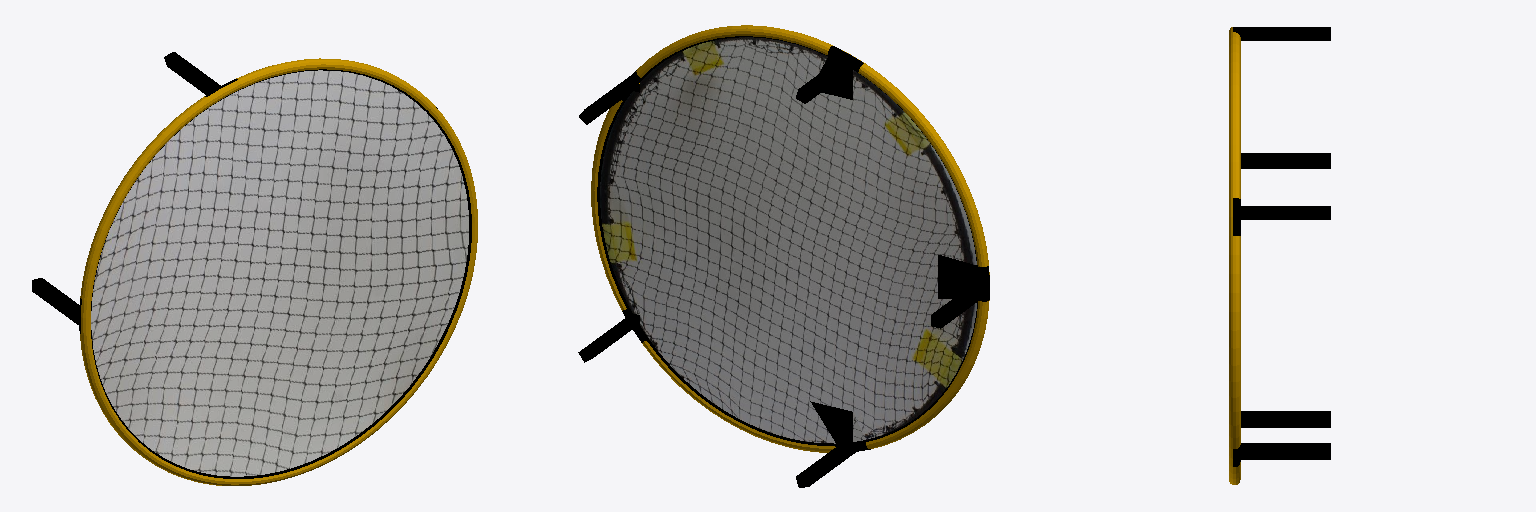
3 views of the same model, side by side, from view 1: azimuth 30°, elevation 25°; view 2: azimuth 150°, elevation 25°; view 3: azimuth 270°, elevation 25° (orthographic).
Visible parts, largest first — view 1: Net_realistic; view 2: Net_realistic; view 3: Net_realistic.
Boxes of the visible parts, box(x1,y1,x2,y2) form: Net_realistic: box(32, 52, 477, 485); Net_realistic: box(578, 25, 989, 487); Net_realistic: box(1229, 27, 1330, 484).
Bounding box in the file's own units: 0.9647 × 0.9641 × 0.2158.
Materials: 3 (1 with a texture image).